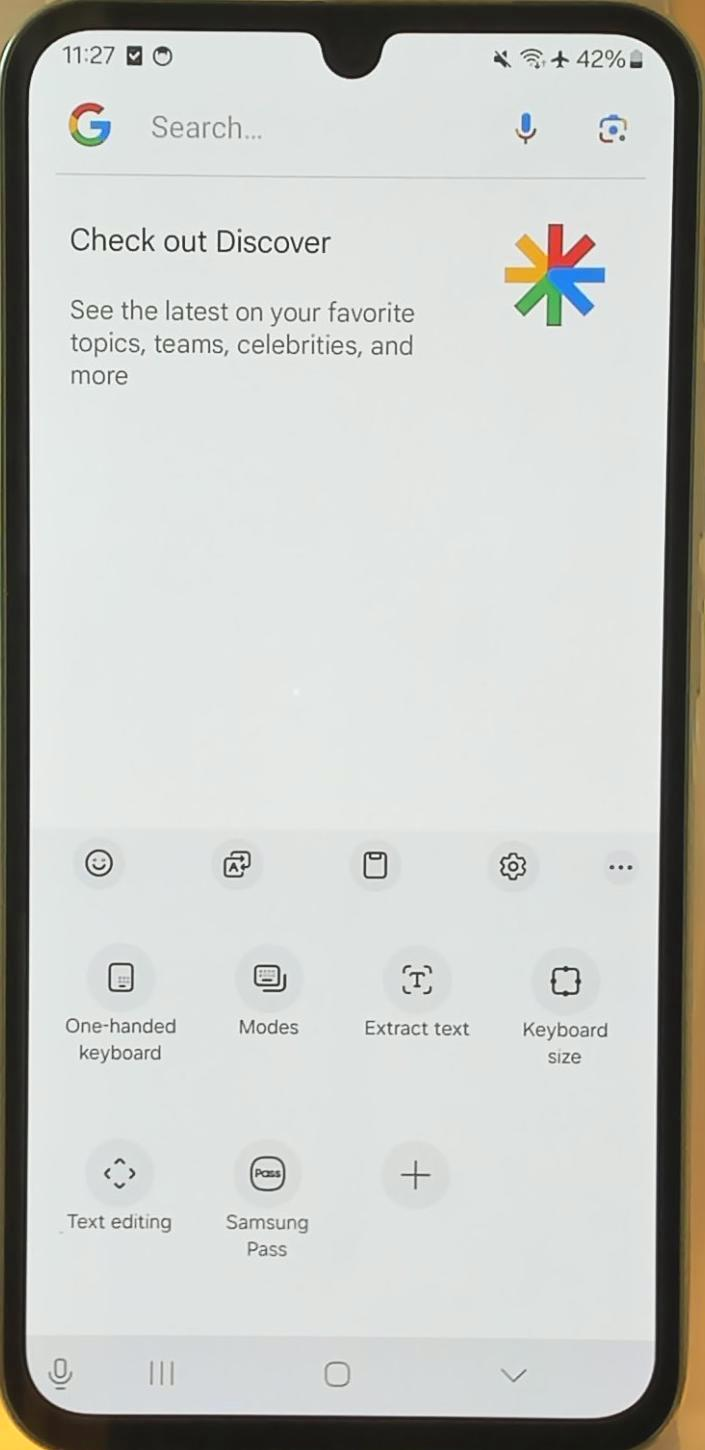CommunBotton: (54, 942, 190, 1080), (62, 1118, 180, 1242), (356, 942, 482, 1052), (218, 1136, 316, 1270), (518, 956, 616, 1078), (226, 940, 318, 1048), (380, 1124, 452, 1216), (334, 834, 418, 904), (196, 834, 280, 902), (60, 832, 138, 898), (474, 834, 548, 902), (584, 834, 656, 902), (306, 1350, 376, 1404), (136, 1340, 186, 1402), (488, 1350, 546, 1396), (42, 1348, 80, 1396)
TextField: (42, 84, 658, 182)
